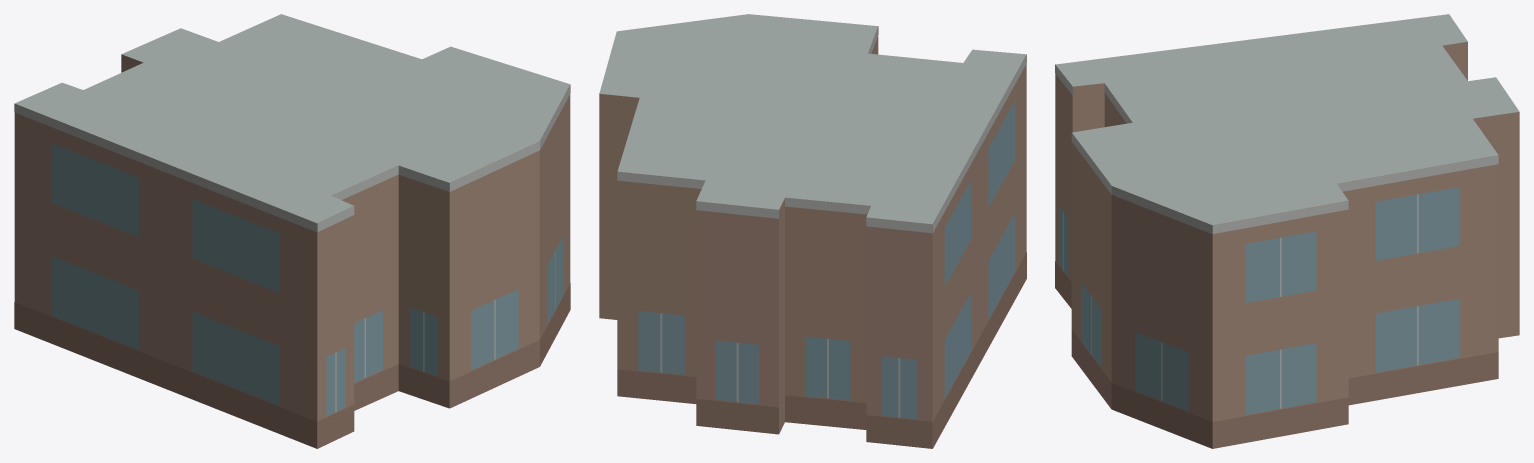
File: survey-upis-32779557.glb
3 renders of one model, left to right at view 1: azimuth 30°, elevation 25°; view 2: azimuth 150°, elevation 25°; view 3: azimuth 270°, elevation 25°, orthographic.
Visible parts, largest first — view 1: survey-upis-32779557.tmp; view 2: survey-upis-32779557.tmp; view 3: survey-upis-32779557.tmp.
Boxes of the visible parts, <box> form: survey-upis-32779557.tmp: <box>14,14,570,448</box>; survey-upis-32779557.tmp: <box>599,14,1026,448</box>; survey-upis-32779557.tmp: <box>1055,14,1519,448</box>.
Size of the model in its own units: 12.37 by 6.1 by 11.49.
